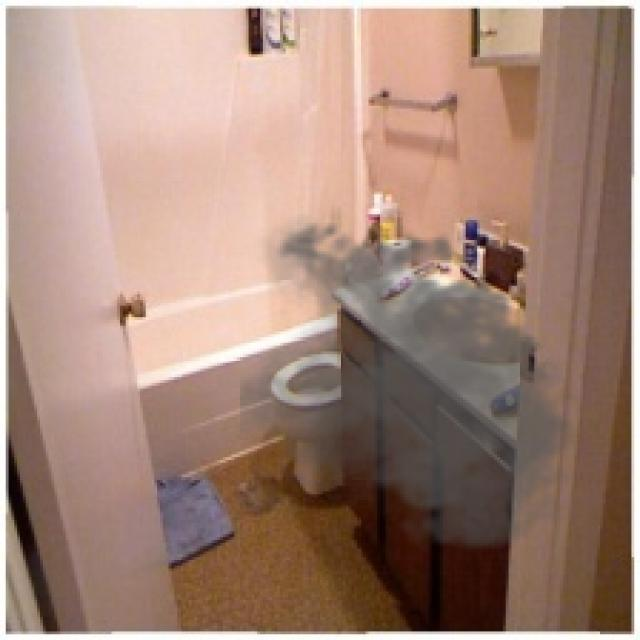smoke: (240, 212, 591, 557)
